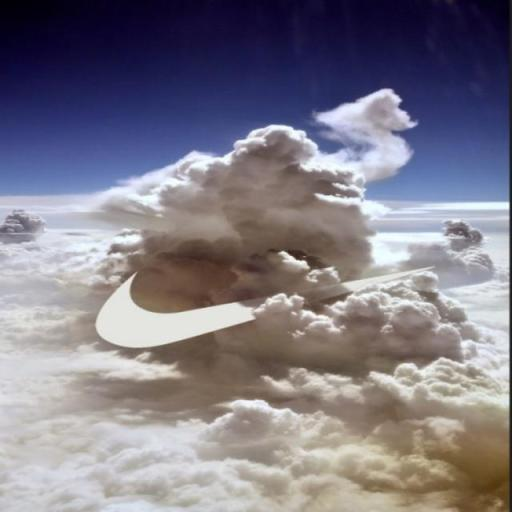Nike: (94, 264, 432, 350)
